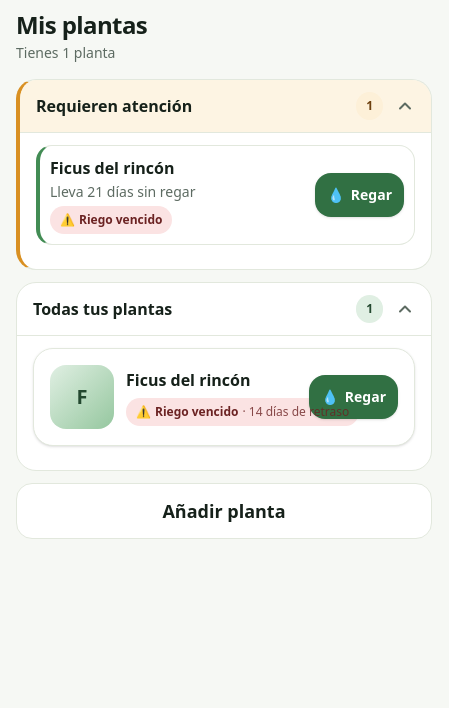
Test: <Inicio> › si el riego no se puede guardar avisa arriba y deja la planta como estaba
Click the 1st button "💧 Regar": {"x": 360, "y": 195} [315,173,404,217]
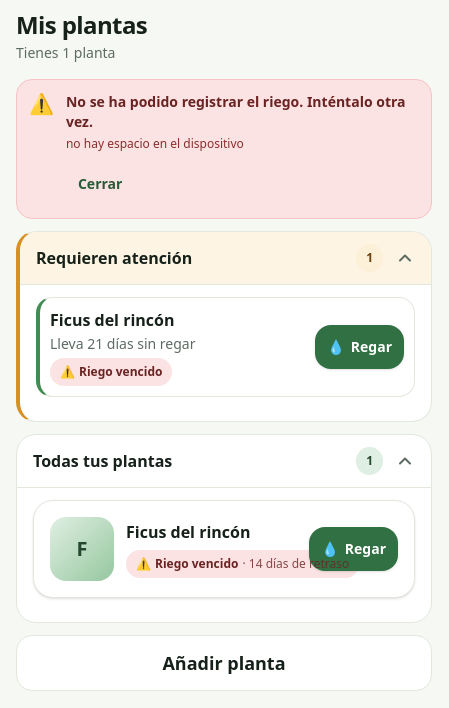
Expected: the message shows "No se ha podido registrar el riego", [66,92,406,131]
Expected: the message shows "Inténtalo otra vez", [66,92,406,131]
Expected: the message shows "no hay espacio en el dispositivo", [66,135,244,152]
